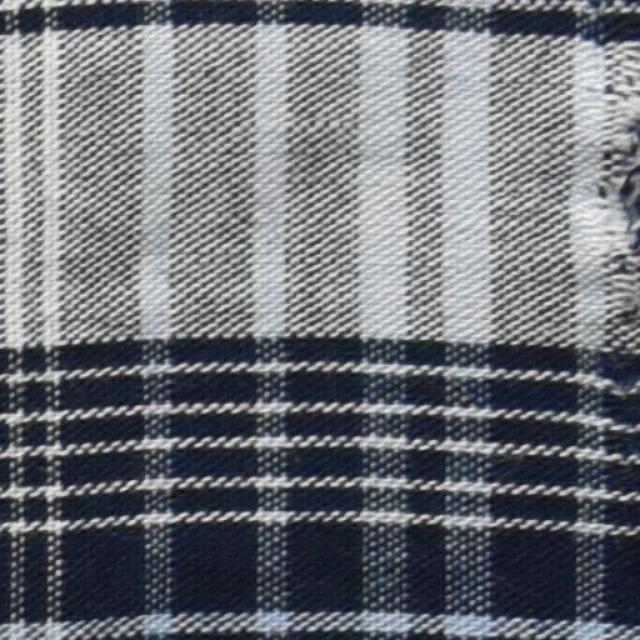Snag: (587, 41, 639, 345)
